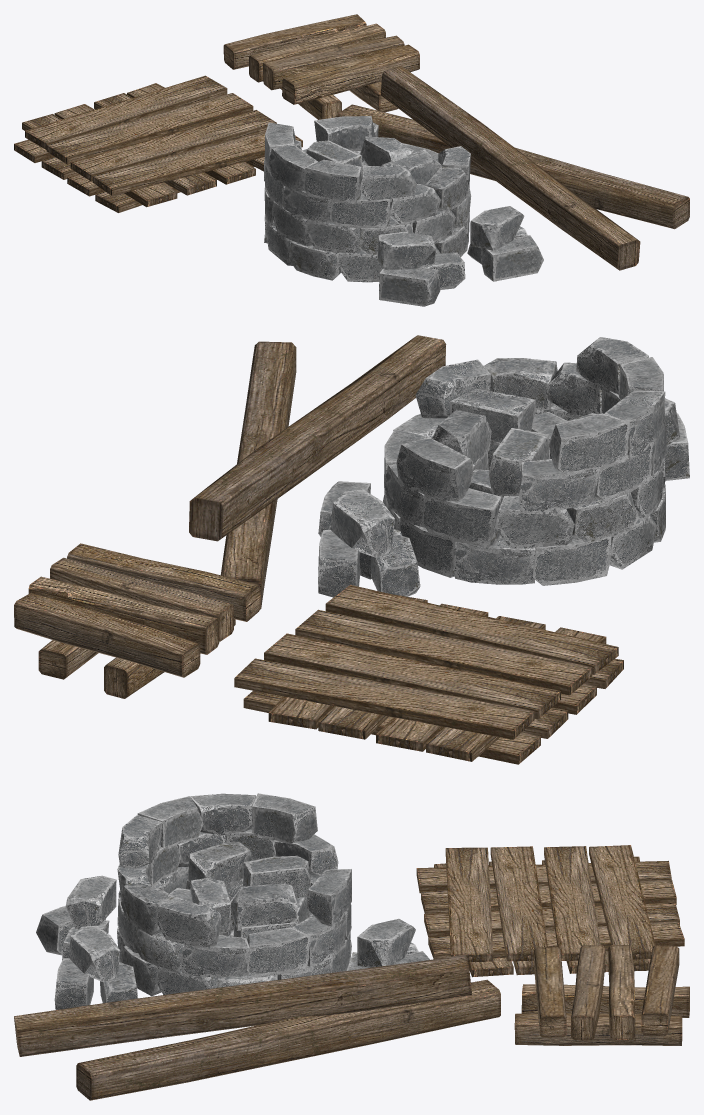
File: CA_Well_Construction_Stage1.fbx
3 views of the same model, one above another, from view 1: azimuth 30°, elevation 25°; view 2: azimuth 150°, elevation 25°; view 3: azimuth 270°, elevation 25° (orthographic). The views are drawn at different scales.
Visible parts, largest first — view 1: CA_Well_Stage1; view 2: CA_Well_Stage1; view 3: CA_Well_Stage1.
Boxes of the visible parts, <box> form: CA_Well_Stage1: <box>14,14,689,306</box>; CA_Well_Stage1: <box>14,335,689,764</box>; CA_Well_Stage1: <box>14,793,689,1100</box>.
Size of the model in its own units: 349 by 83.2 by 415.
